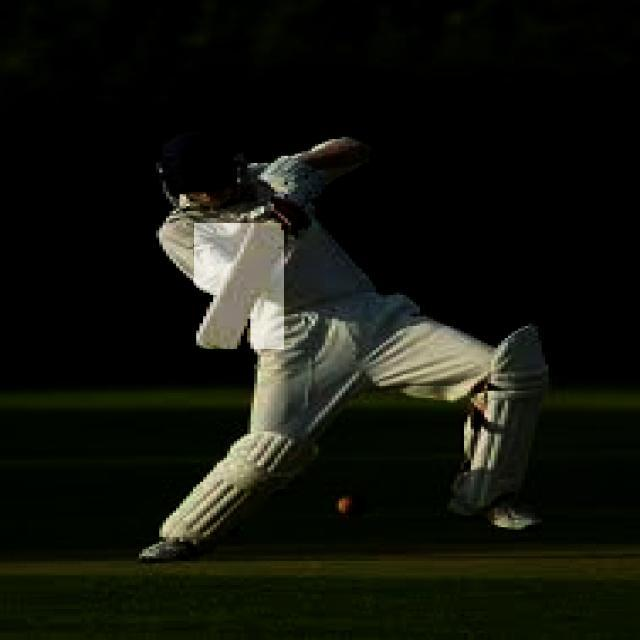bat: (192, 223, 280, 354)
toe: (195, 333, 240, 349)
